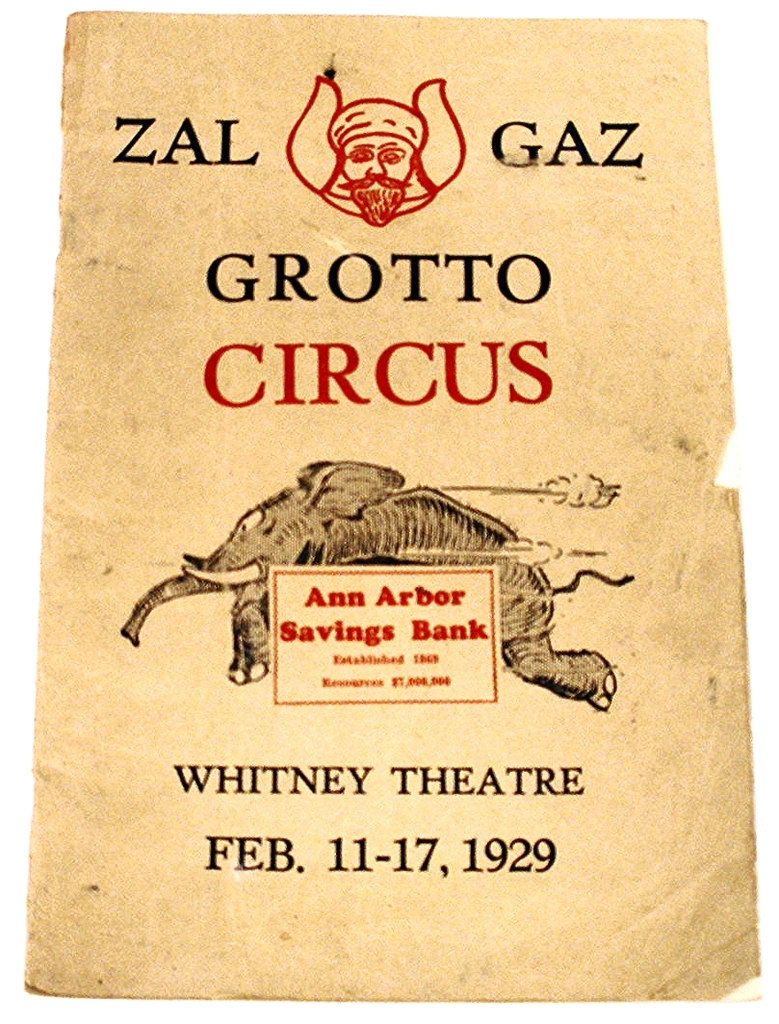Animal: (122, 454, 635, 708)
